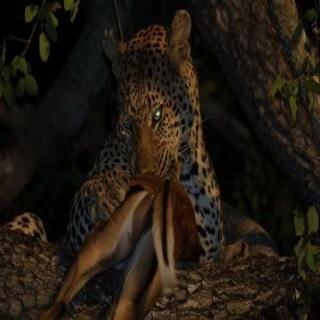Leopard: (87, 3, 231, 230)
